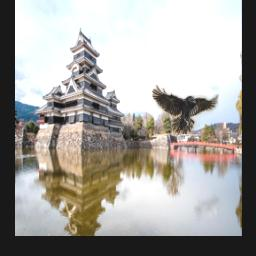Crow: (151, 85, 218, 134)
